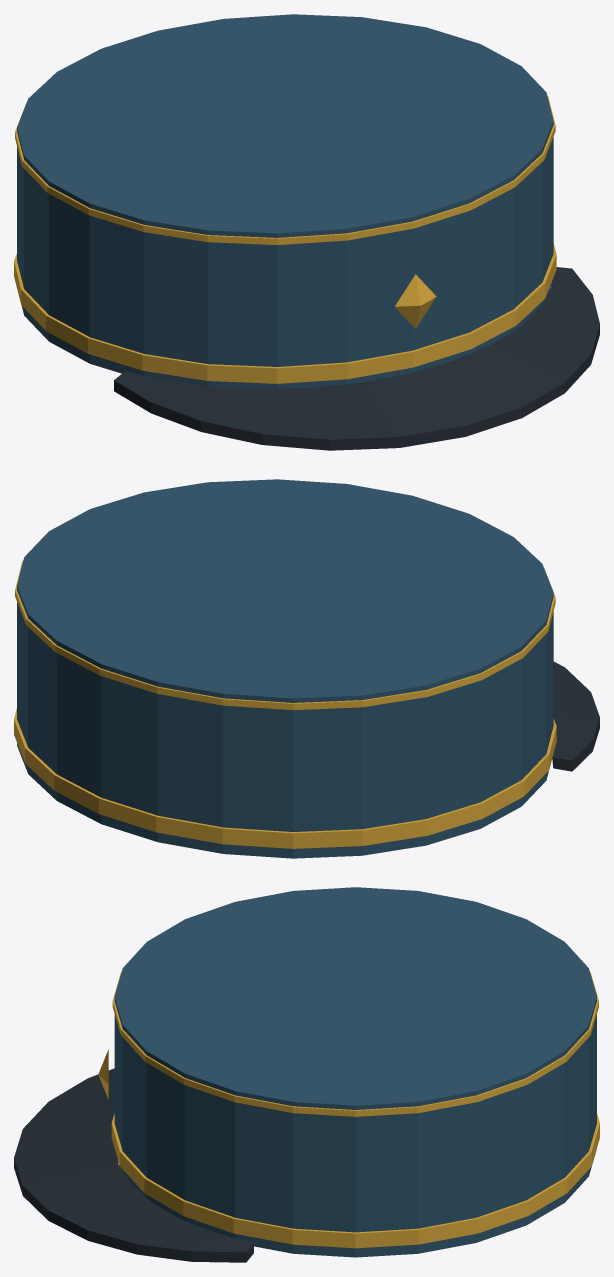
The model's file is conductor-cap.glb.
3 views of the same model, one above another, from view 1: azimuth 30°, elevation 25°; view 2: azimuth 150°, elevation 25°; view 3: azimuth 270°, elevation 25° (orthographic). The views are drawn at different scales.
Visible parts, largest first — view 1: wear_head_conductor_drum, wear_head_conductor_peak, wear_head_conductor_brass_band, wear_head_conductor_brass_crown, wear_head_conductor_badge; view 2: wear_head_conductor_drum, wear_head_conductor_brass_band, wear_head_conductor_brass_crown, wear_head_conductor_peak; view 3: wear_head_conductor_drum, wear_head_conductor_peak, wear_head_conductor_brass_band, wear_head_conductor_brass_crown.
Part boxes in pixels (left/top/right/bottom): wear_head_conductor_drum: left=17, top=14, right=553, bottom=388; wear_head_conductor_peak: left=114, top=267, right=599, bottom=450; wear_head_conductor_brass_band: left=14, top=243, right=556, bottom=383; wear_head_conductor_brass_crown: left=15, top=96, right=555, bottom=245; wear_head_conductor_badge: left=394, top=274, right=436, bottom=328; wear_head_conductor_drum: left=17, top=479, right=553, bottom=858; wear_head_conductor_brass_band: left=14, top=708, right=556, bottom=848; wear_head_conductor_brass_crown: left=15, top=561, right=555, bottom=710; wear_head_conductor_peak: left=552, top=662, right=599, bottom=771; wear_head_conductor_drum: left=114, top=887, right=596, bottom=1257; wear_head_conductor_peak: left=14, top=1068, right=253, bottom=1262; wear_head_conductor_brass_band: left=111, top=1113, right=599, bottom=1248; wear_head_conductor_brass_crown: left=112, top=972, right=598, bottom=1116.
Bounding box in the file's own units: 0.546 × 0.1977 × 0.612.
